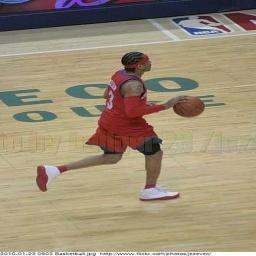ball: (172, 95, 206, 120)
human: (36, 49, 188, 204)
